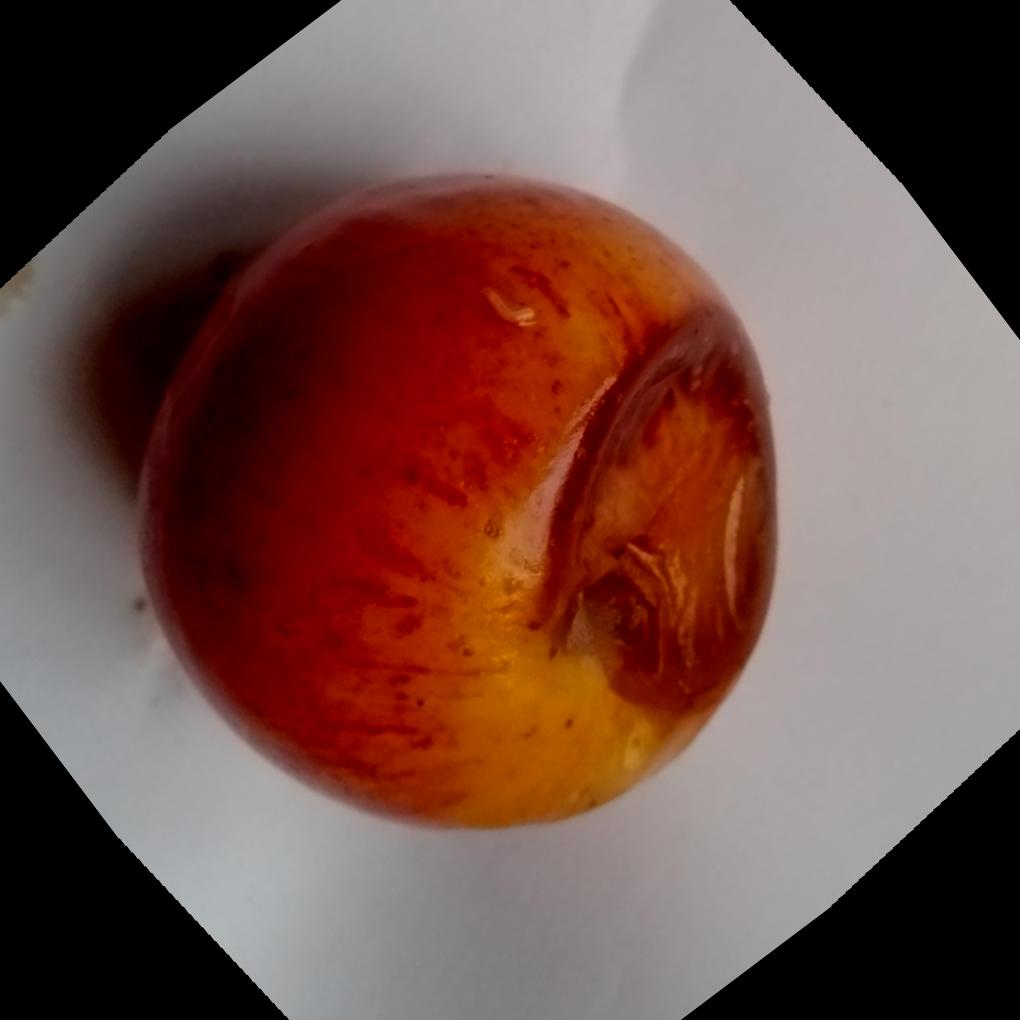FreshOrange: (135, 168, 783, 831)
